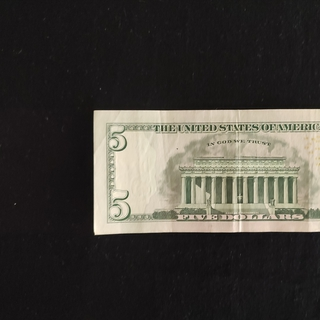5USDBack: (91, 106, 320, 236)
